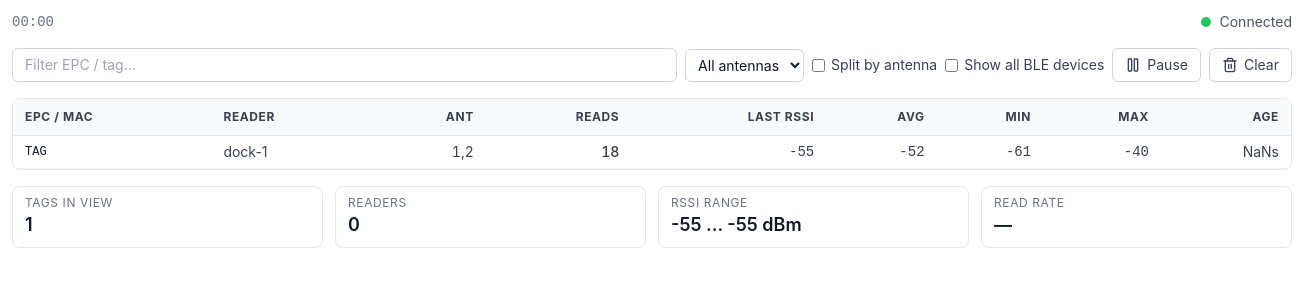
LiveReadsFeed › aggregates antennas into one row by default and splits on toggle
Expected: the text "TAG" is shown once, [13,136,211,168]
Expected: the text "1,2" is shown, [374,136,486,168]
Toggle split: one row per antenna.
What coordinates should you click on to do the following:
click the checkbox labelled "Split by antenna"
I would click on:
 (819, 65)
Its box is [812,58,825,72].
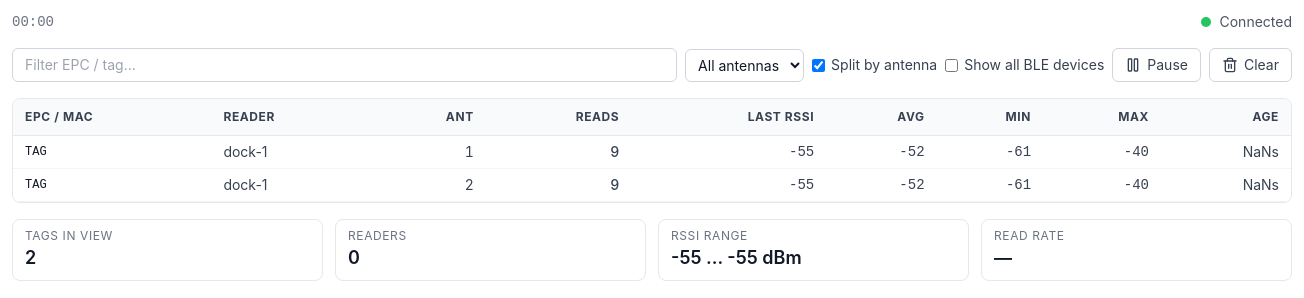
Expected: the text "TAG" is shown 2 times, [13,136,211,168]; [13,168,211,202]
Expected: the text "1,2" is gone
